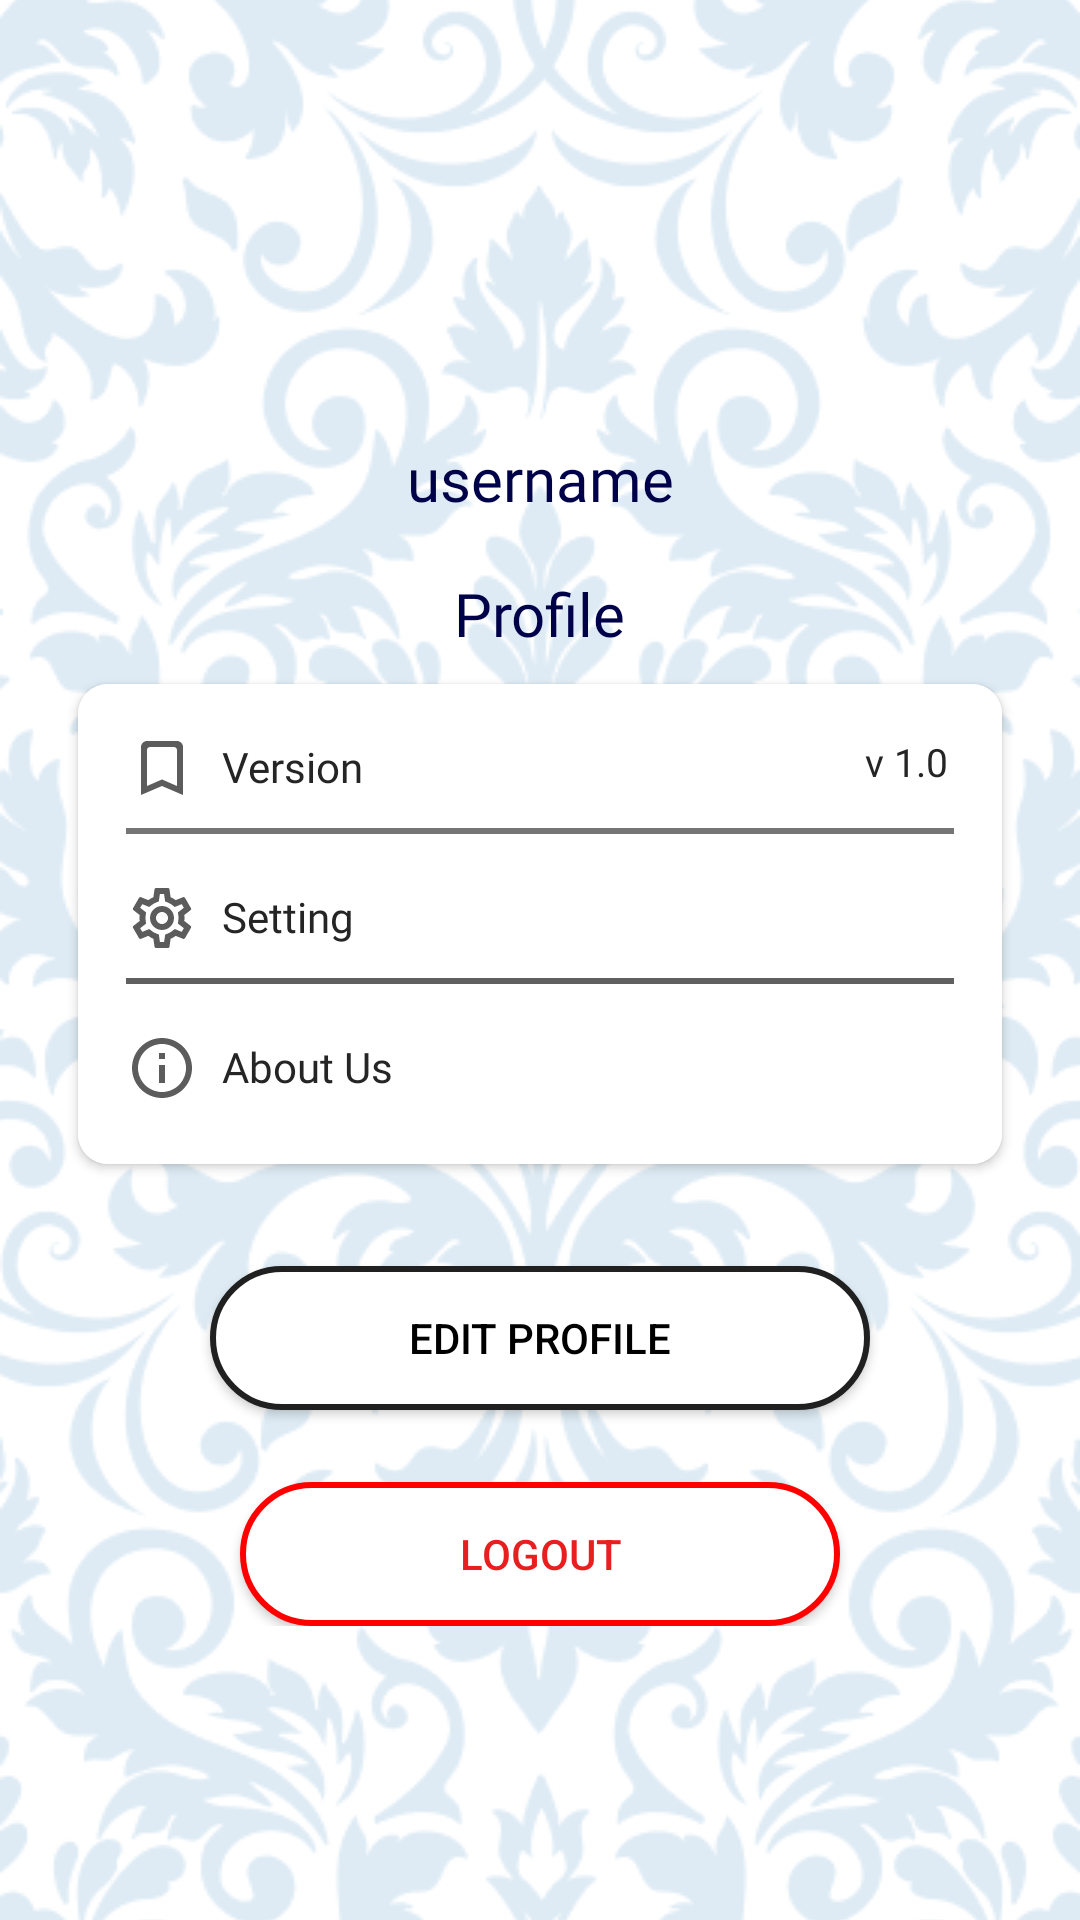

Named icons in this screenshot (1080x1920) and their bounding boxes, (x1, y1, x2, y2):
bookmark border: (141, 741, 183, 795)
info: (132, 1038, 192, 1098)
